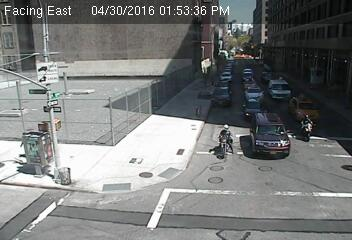neg: (35, 120, 67, 163), (212, 120, 242, 160), (210, 175, 236, 210), (170, 90, 195, 124), (306, 170, 331, 203), (77, 39, 101, 71), (144, 197, 166, 227), (36, 29, 58, 58), (224, 76, 245, 103), (297, 112, 317, 139), (55, 165, 75, 192), (132, 80, 151, 105), (89, 109, 108, 134), (148, 49, 166, 73), (261, 188, 279, 212), (265, 83, 282, 106), (46, 87, 63, 110), (119, 164, 135, 185), (267, 139, 282, 159), (199, 45, 213, 65), (148, 142, 159, 156)
